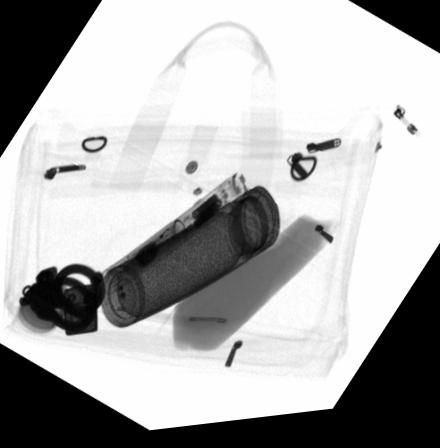Baton: (96, 173, 250, 299)
HandCuffs: (18, 265, 108, 333)
Lighter: (63, 284, 96, 337)
